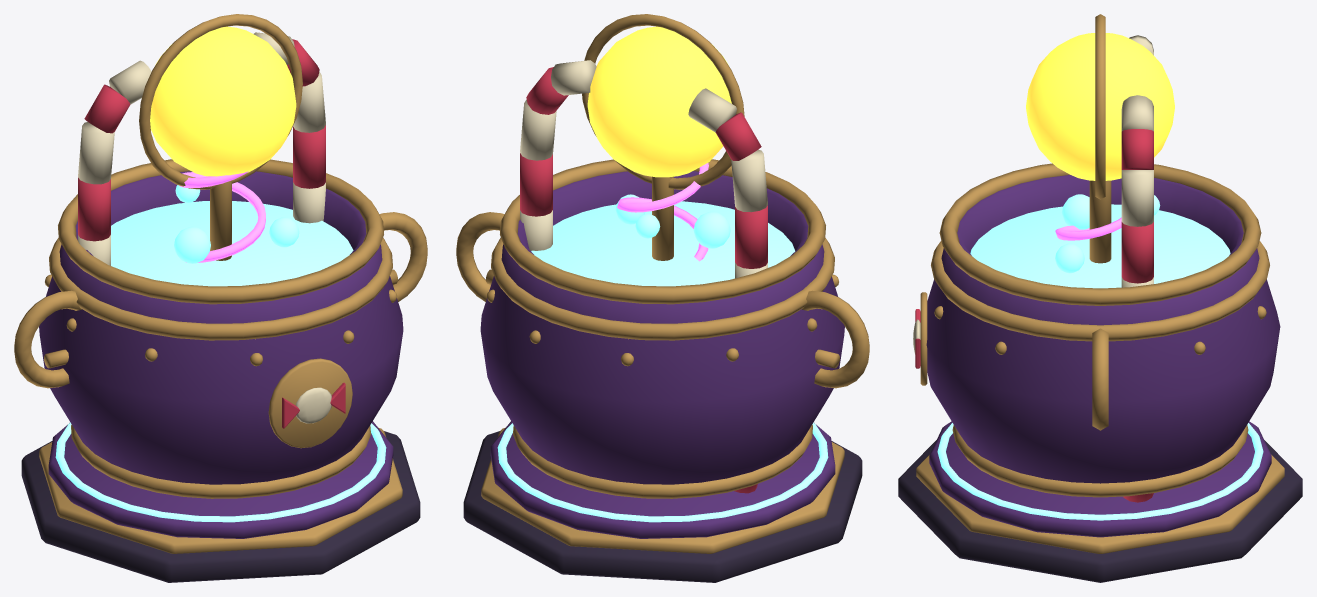
File: A060-A03-CandyCauldronReactor-runtime-host.glb
3 views of the same model, side by side, from view 1: azimuth 30°, elevation 25°; view 2: azimuth 150°, elevation 25°; view 3: azimuth 270°, elevation 25° (orthographic).
Parts seen in each view (by area): view 1: A03_OpenCauldron, Glow_A03_ReactorCore, A03_OctagonalPlinth, A03_PurpleBase, Glow_A03_Liquid, A03_CauldronBrassRim.002, A03_CauldronBrassRim.001, A03_BrassStep, A03_CauldronBrassRim, A03_FrontMedallion, A03_ReactorGimbal, Glow_A03_BaseRing (+17 smaller); view 2: A03_OpenCauldron, Glow_A03_ReactorCore, A03_OctagonalPlinth, A03_PurpleBase, Glow_A03_Liquid, A03_CauldronBrassRim.002, A03_CauldronBrassRim.001, A03_BrassStep, A03_CauldronBrassRim, Glow_A03_BaseRing, A03_ReactorGimbal, A03_SideHandle.001 (+14 smaller); view 3: A03_OpenCauldron, Glow_A03_ReactorCore, A03_OctagonalPlinth, A03_PurpleBase, Glow_A03_Liquid, A03_CauldronBrassRim.002, A03_CauldronBrassRim.001, A03_BrassStep, A03_CauldronBrassRim, Glow_A03_BaseRing, A03_ReactorGimbal, A03_CandyConduit_Band_04 (+10 smaller).
Boxes of the visible parts, left/top/right/bottom form: A03_OpenCauldron: left=39, top=171, right=403, bottom=484; Glow_A03_ReactorCore: left=150, top=26, right=296, bottom=176; A03_OctagonalPlinth: left=21, top=431, right=420, bottom=582; A03_PurpleBase: left=48, top=421, right=393, bottom=538; Glow_A03_Liquid: left=111, top=201, right=353, bottom=286; A03_CauldronBrassRim.002: left=58, top=159, right=383, bottom=304; A03_CauldronBrassRim.001: left=49, top=237, right=392, bottom=340; A03_BrassStep: left=39, top=427, right=402, bottom=553; A03_CauldronBrassRim: left=71, top=424, right=370, bottom=498; A03_FrontMedallion: left=268, top=358, right=352, bottom=448; A03_ReactorGimbal: left=139, top=14, right=302, bottom=189; Glow_A03_BaseRing: left=55, top=422, right=386, bottom=522; A03_OpenCauldron: left=480, top=171, right=844, bottom=484; Glow_A03_ReactorCore: left=587, top=26, right=731, bottom=177; A03_OctagonalPlinth: left=463, top=431, right=862, bottom=582; A03_PurpleBase: left=490, top=421, right=835, bottom=538; Glow_A03_Liquid: left=531, top=201, right=795, bottom=286; A03_CauldronBrassRim.002: left=500, top=159, right=825, bottom=304; A03_CauldronBrassRim.001: left=491, top=237, right=834, bottom=340; A03_BrassStep: left=481, top=427, right=844, bottom=553; A03_CauldronBrassRim: left=513, top=424, right=812, bottom=498; Glow_A03_BaseRing: left=497, top=422, right=828, bottom=522; A03_ReactorGimbal: left=585, top=14, right=744, bottom=189; A03_SideHandle.001: left=802, top=290, right=869, bottom=388; A03_OpenCauldron: left=926, top=175, right=1280, bottom=483; Glow_A03_ReactorCore: left=1026, top=33, right=1174, bottom=180; A03_OctagonalPlinth: left=898, top=440, right=1302, bottom=582; A03_PurpleBase: left=929, top=421, right=1271, bottom=537; Glow_A03_Liquid: left=970, top=204, right=1230, bottom=288; A03_CauldronBrassRim.002: left=939, top=163, right=1261, bottom=305; A03_CauldronBrassRim.001: left=931, top=241, right=1269, bottom=341; A03_BrassStep: left=916, top=454, right=1284, bottom=553; A03_CauldronBrassRim: left=952, top=425, right=1248, bottom=497; Glow_A03_BaseRing: left=937, top=423, right=1263, bottom=520; A03_ReactorGimbal: left=1095, top=14, right=1105, bottom=198; A03_CandyConduit_Band_04: left=1121, top=222, right=1153, bottom=283.
Size of the model in its own units: 0.8941 by 1 by 0.7693.
